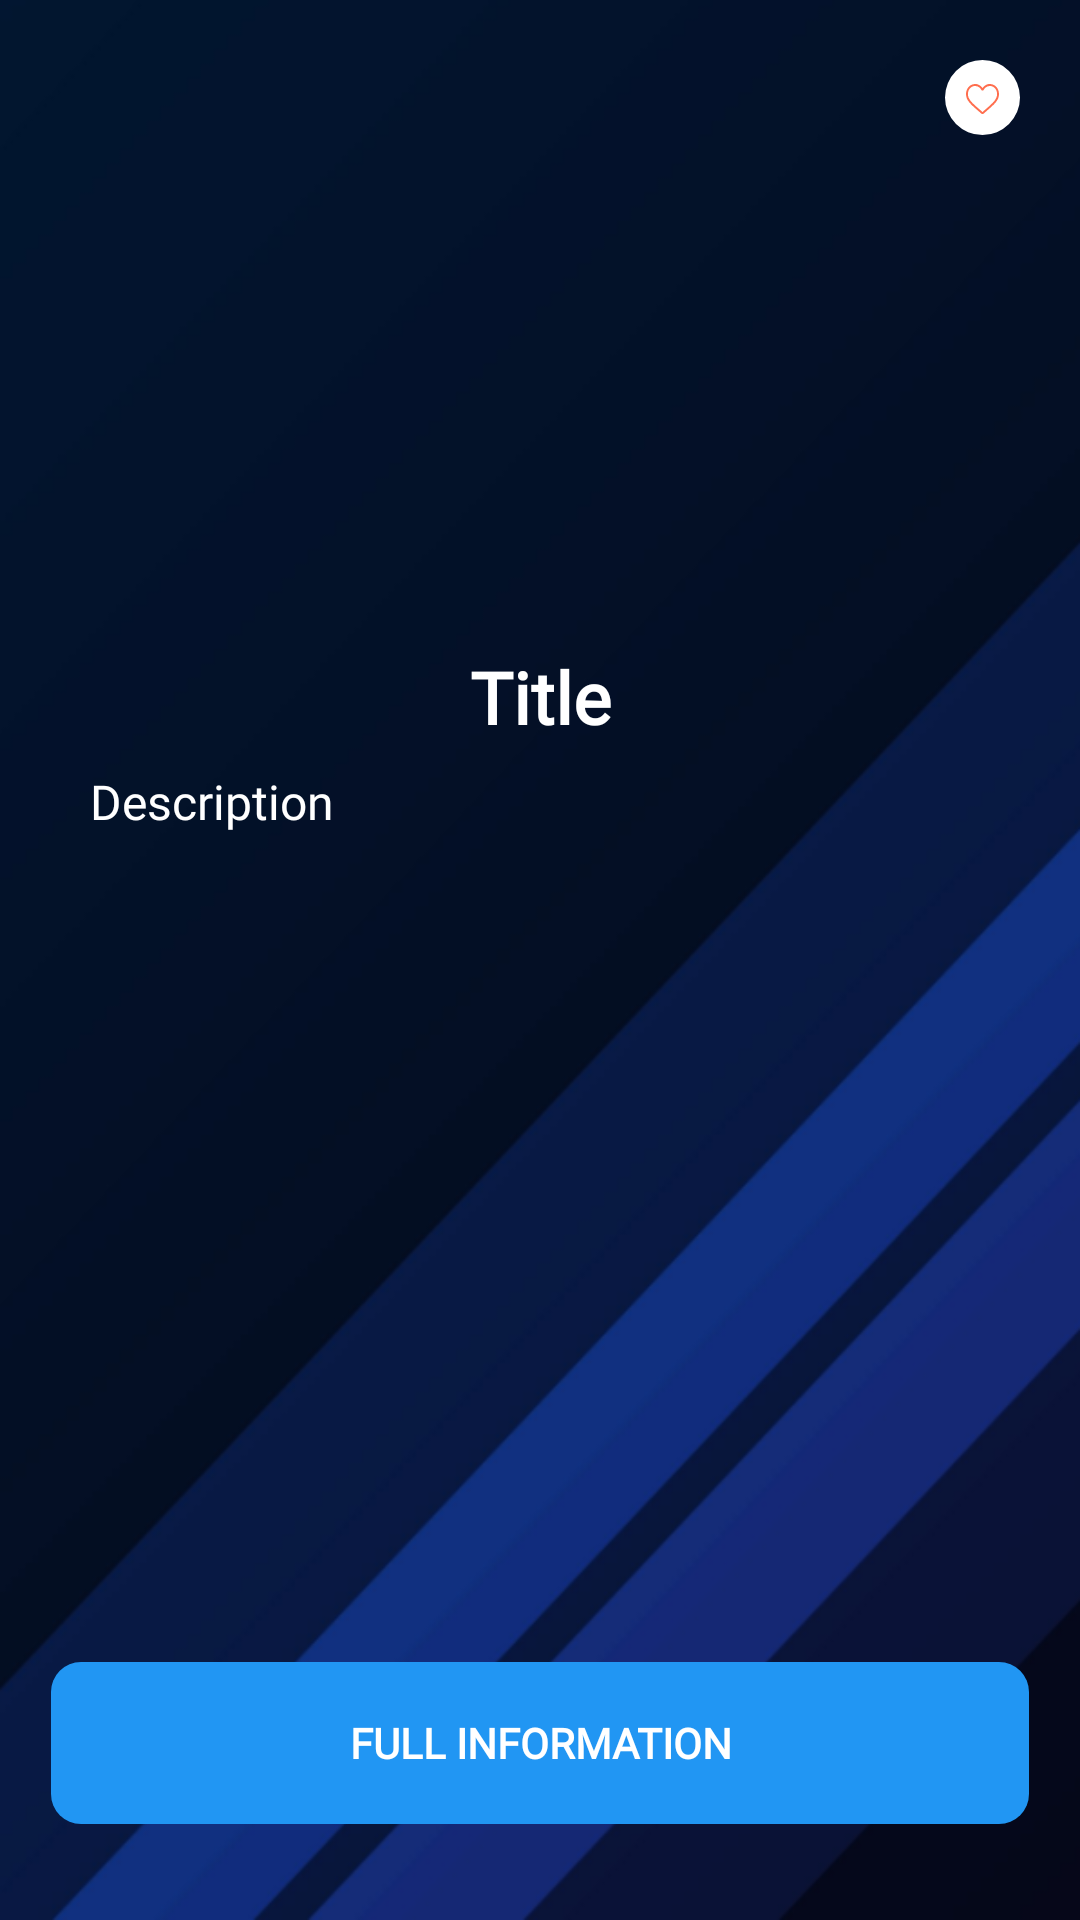

Named icons in this screenshot (1080px x 1920px) and their bounding boxes, box=[x1, y1, x2, y2]:
like: box=[945, 60, 1020, 135]
